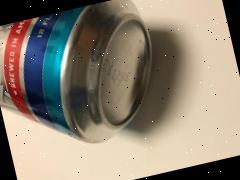metal: (0, 0, 206, 171)
